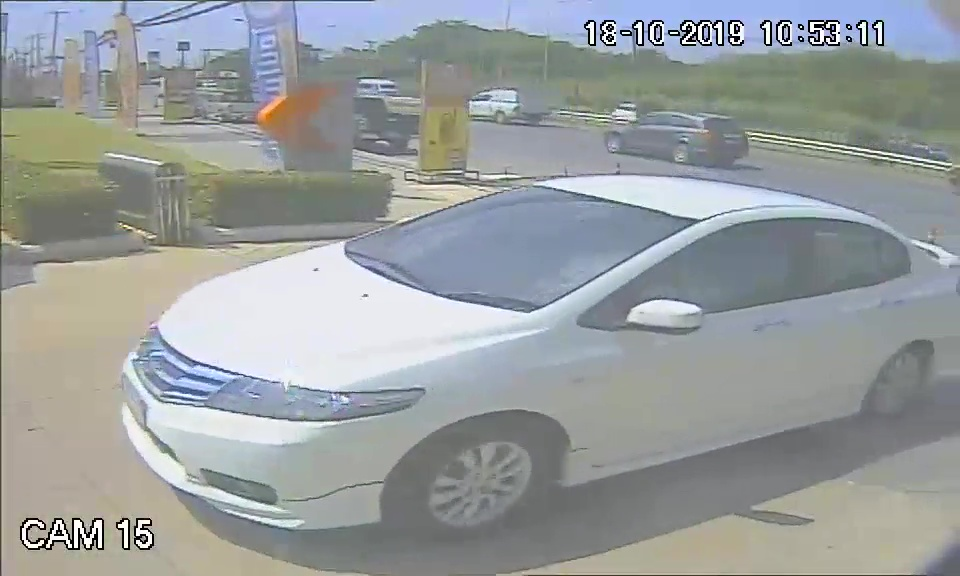sedan: (107, 172, 938, 534)
